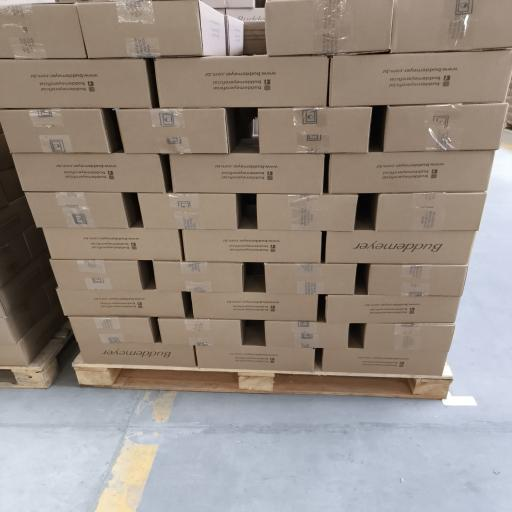pallet: (73, 355, 452, 399), (0, 321, 72, 388)
